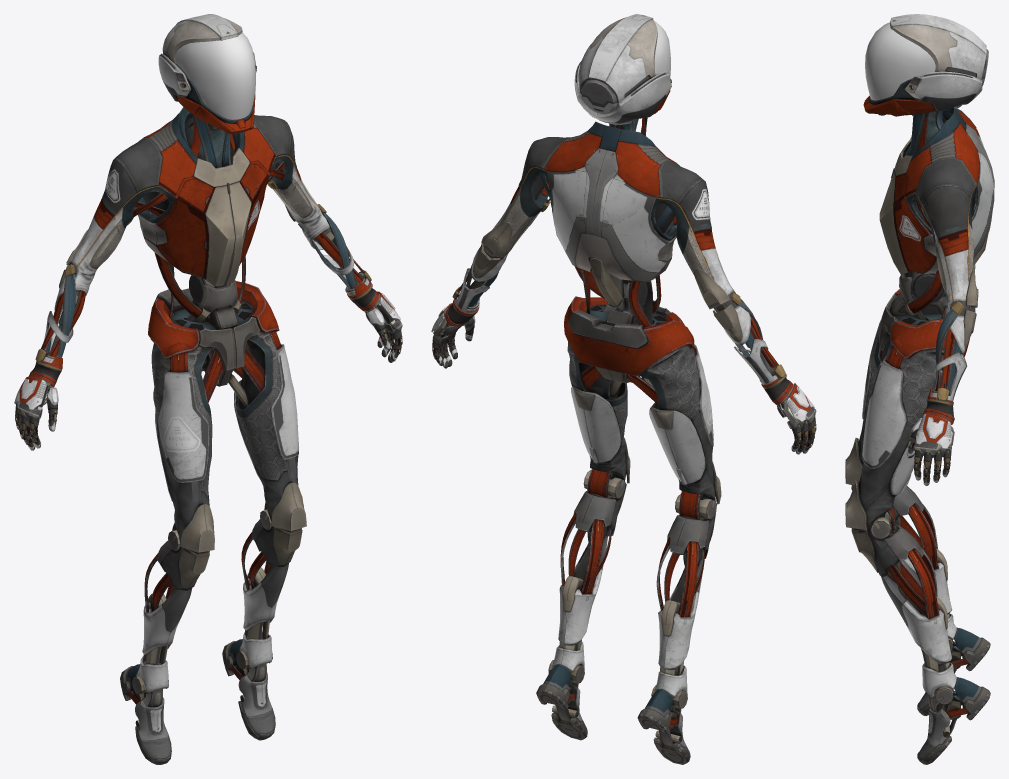
File: Vega X-3.fbx
The picture shows the model from 3 angles, left to right: view 1: azimuth 30°, elevation 25°; view 2: azimuth 150°, elevation 25°; view 3: azimuth 270°, elevation 25°; orthographic projection.
Parts seen in each view (by area): view 1: main.002, visor.002, hands.021, wrists.002; view 2: main.002, hands.021, wrists.002, visor.002; view 3: main.002, visor.002, hands.021, wrists.002.
Boxes of the visible parts, <box> form: main.002: <box>35,14,371,764</box>; visor.002: <box>175,32,255,119</box>; hands.021: <box>15,281,402,450</box>; wrists.002: <box>14,291,400,415</box>; main.002: <box>452,14,785,764</box>; hands.021: <box>432,298,816,454</box>; wrists.002: <box>431,302,814,422</box>; visor.002: <box>654,21,670,77</box>; main.002: <box>845,14,994,764</box>; visor.002: <box>865,22,935,100</box>; hands.021: <box>907,388,954,485</box>; wrists.002: <box>914,413,951,448</box>.
Bounding box in the file's own units: 105 × 195 × 36.63.
